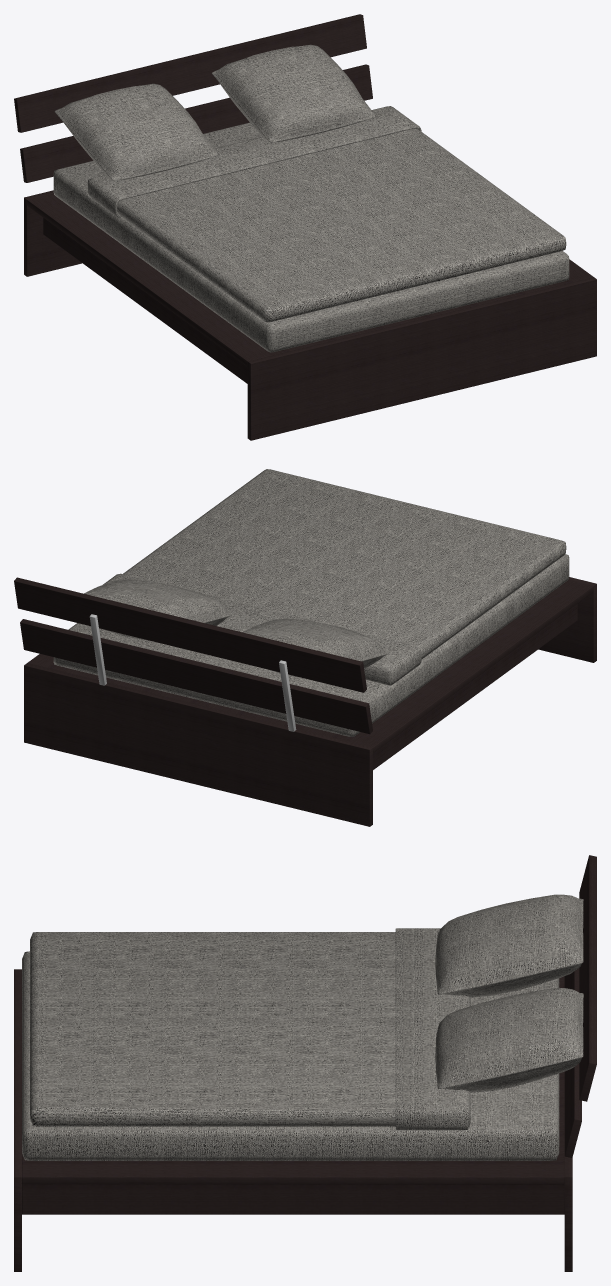
The picture shows the model from 3 angles, top to bottom: view 1: azimuth 30°, elevation 25°; view 2: azimuth 150°, elevation 25°; view 3: azimuth 270°, elevation 25°; orthographic projection. The views are drawn at different scales.
Parts seen in each view (by area): view 1: Node; view 2: Node; view 3: Node.
Part boxes in pixels (x1,y1,x2,y2): Node: (14, 14, 596, 440); Node: (14, 469, 596, 826); Node: (14, 855, 596, 1271).
Bounding box in the file's own units: 1.83 × 0.8594 × 2.17.
Materials: 3 (2 with a texture image).
